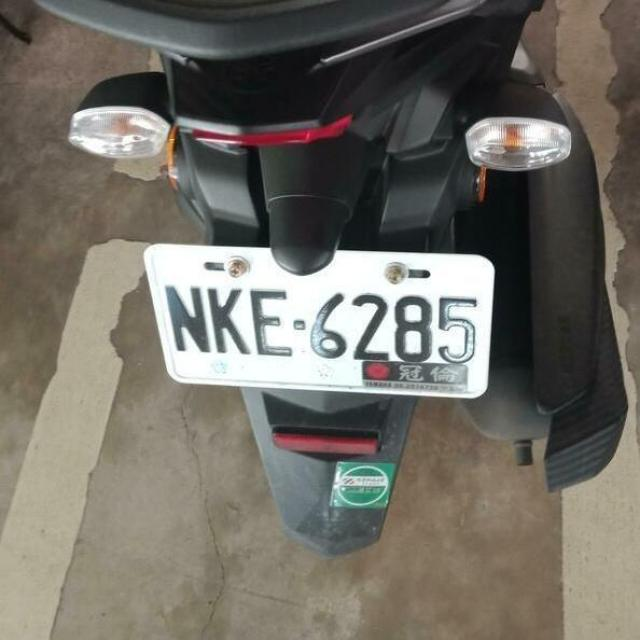W: (138, 230, 506, 408)
